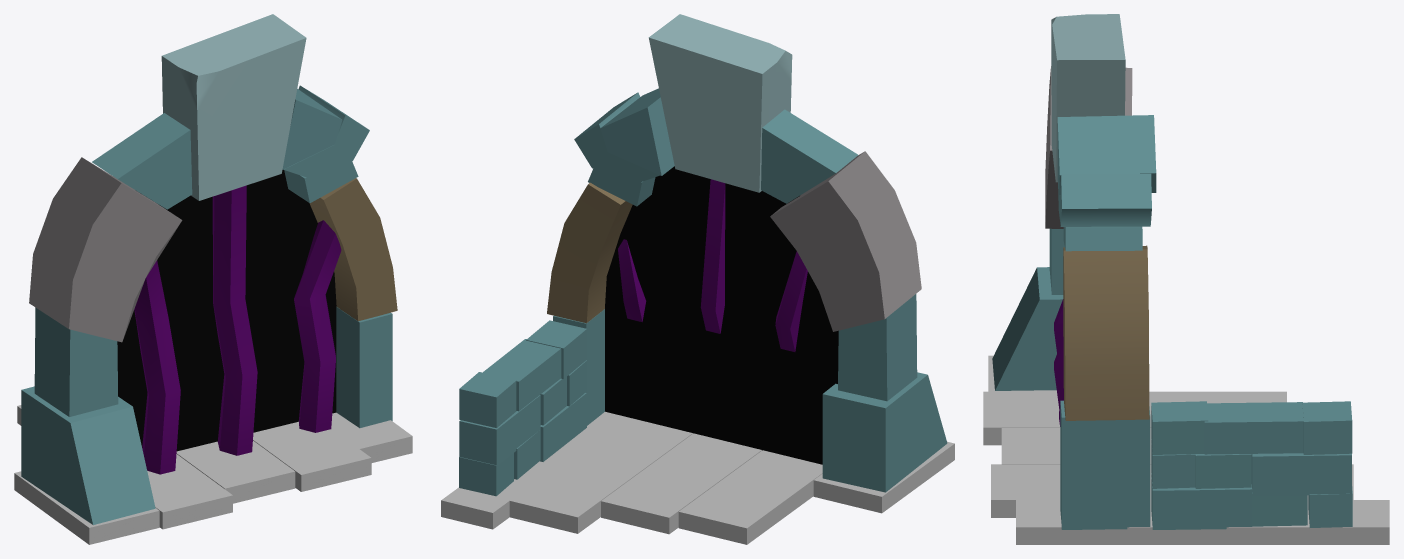
File: Low_Polly_Sewer_Grate_SketchFab.fbx
The picture shows the model from 3 angles, left to right: view 1: azimuth 30°, elevation 25°; view 2: azimuth 150°, elevation 25°; view 3: azimuth 270°, elevation 25°; orthographic projection. The views are drawn at different scales.
Parts seen in each view (by area): view 1: polySurface1; view 2: polySurface1; view 3: polySurface1.
Boxes of the visible parts, x1=… form: polySurface1: x1=14, y1=14, x2=412, y2=544; polySurface1: x1=441, y1=14, x2=954, y2=544; polySurface1: x1=983, y1=14, x2=1389, y2=544.
Size of the model in its own units: 15.48 by 15.11 by 18.08.
